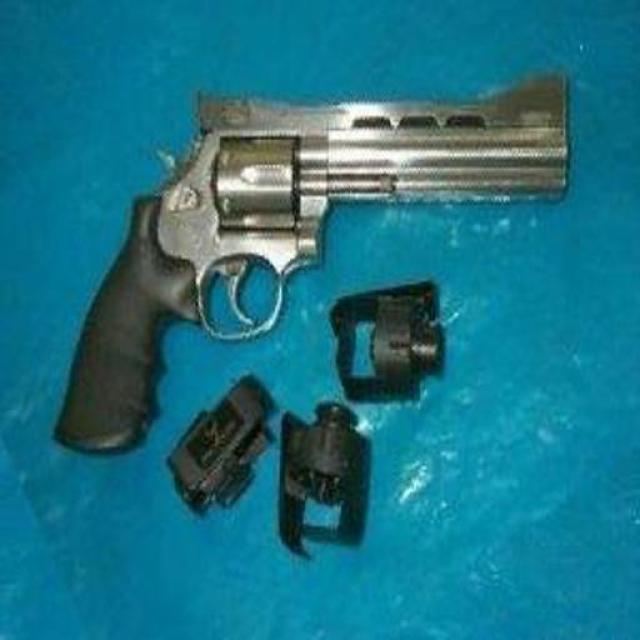pistol: (40, 67, 574, 460)
